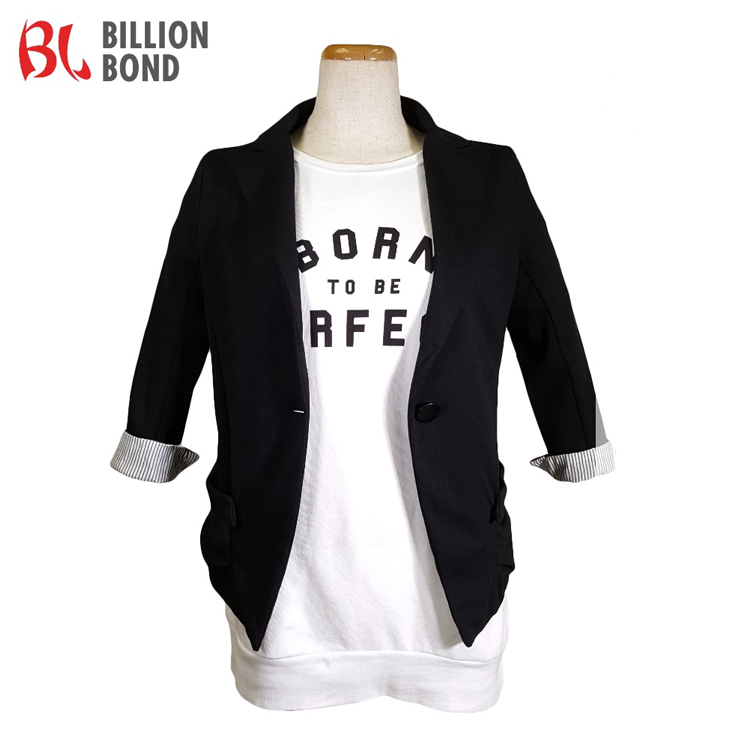F_W_suit jacket: (137, 100, 590, 634)
